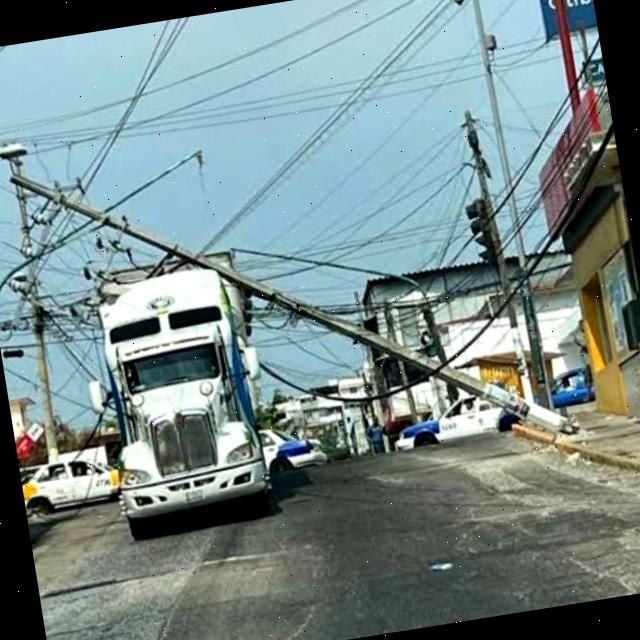Broken Pole: (0, 145, 581, 438)
